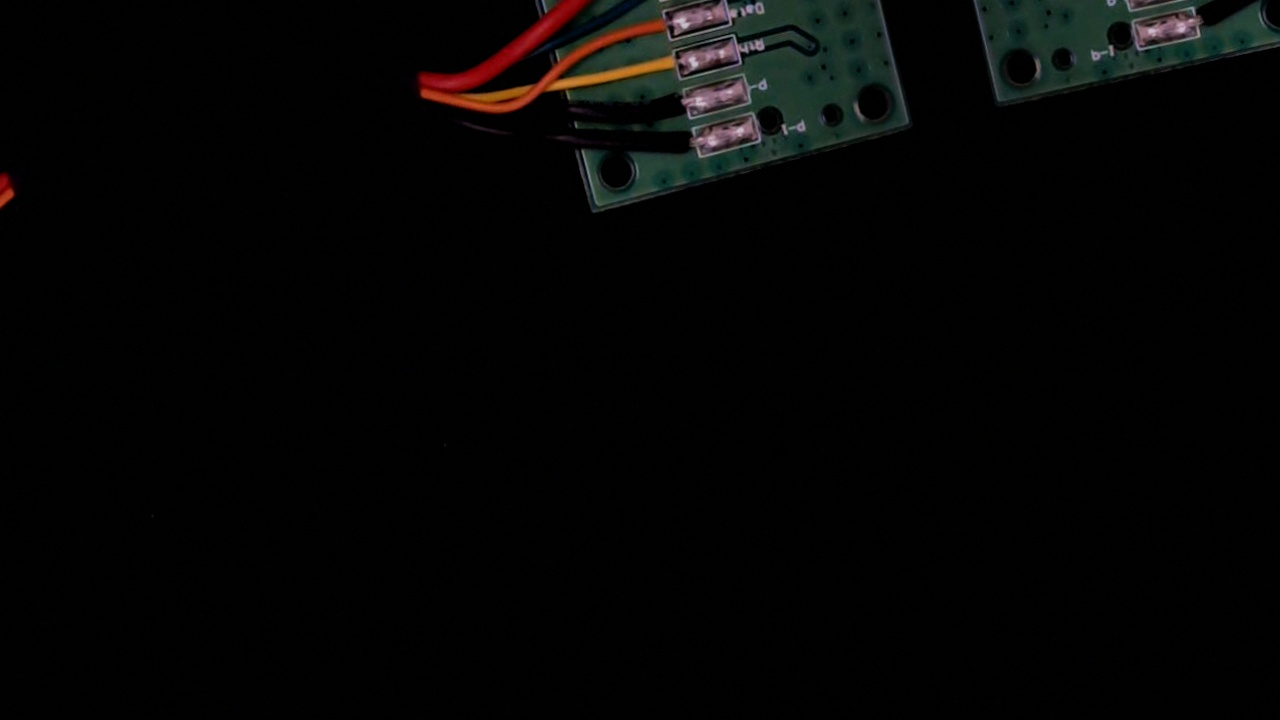Black: (634, 84, 704, 128)
Black1: (640, 123, 713, 171), (1180, 0, 1253, 41)
Green: (612, 0, 677, 14)
Orange: (620, 5, 685, 51)
Yellow: (626, 44, 698, 93)
